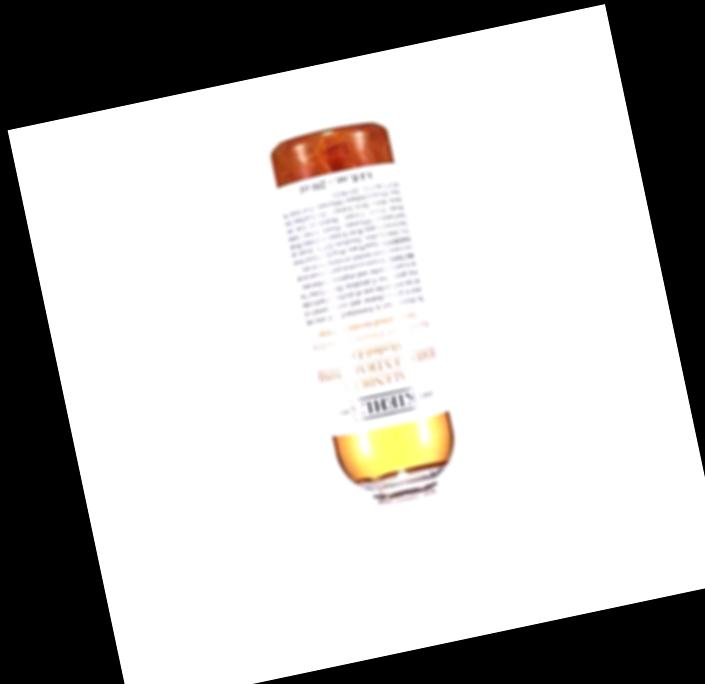cosmetic: (268, 115, 479, 588)
